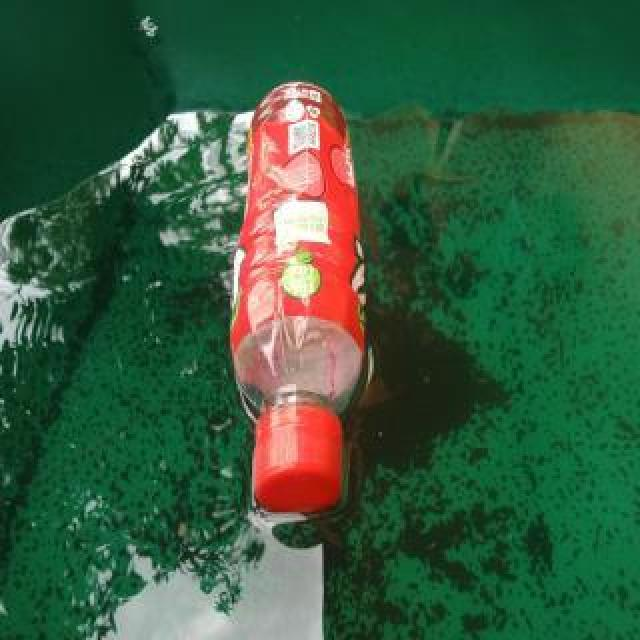bottle: (226, 77, 370, 517)
